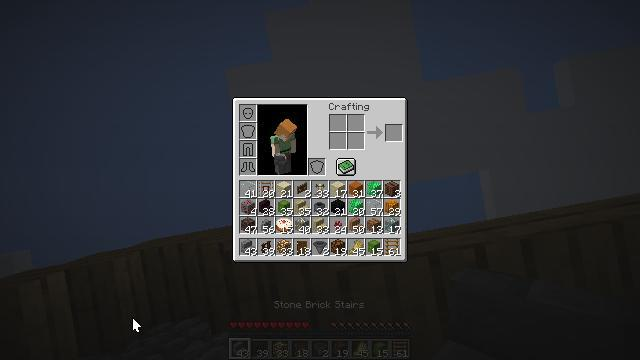cursor: (132, 317, 142, 333)
